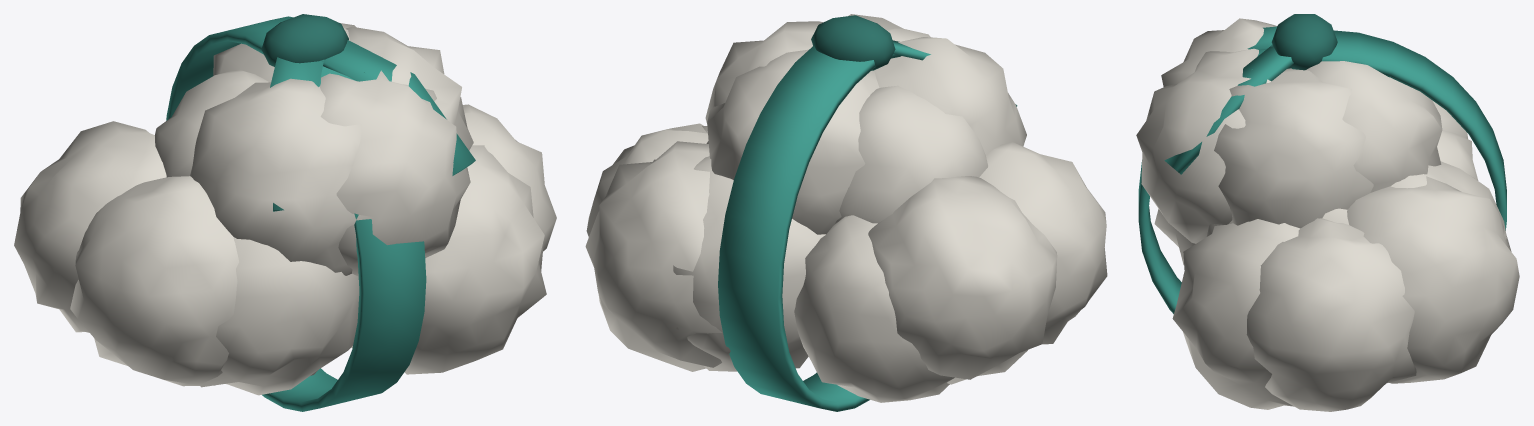
The model's file is cotton.glb.
The picture shows the model from 3 angles, left to right: view 1: azimuth 30°, elevation 25°; view 2: azimuth 150°, elevation 25°; view 3: azimuth 270°, elevation 25°; orthographic projection. The views are drawn at different scales.
Parts seen in each view (by area): view 1: Cotton_Puff0, Cotton_Puff2, Cotton_Puff1, Cotton_Band, Cotton_Knot, Cotton_TailL, Cotton_TailR; view 2: Cotton_Puff0, Cotton_Puff2, Cotton_Puff1, Cotton_Band, Cotton_Knot; view 3: Cotton_Puff1, Cotton_Puff2, Cotton_Band, Cotton_Knot, Cotton_Puff0, Cotton_TailL.
Part boxes in pixels (x1=…): Cotton_Puff0: x1=14, y1=121, x2=359, y2=395; Cotton_Puff2: x1=155, y1=23, x2=473, y2=276; Cotton_Puff1: x1=351, y1=104, x2=556, y2=374; Cotton_Band: x1=166, y1=16, x2=426, y2=411; Cotton_Knot: x1=261, y1=14, x2=348, y2=66; Cotton_TailL: x1=320, y1=40, x2=475, y2=175; Cotton_TailR: x1=270, y1=57, x2=323, y2=211; Cotton_Puff0: x1=794, y1=142, x2=1107, y2=402; Cotton_Puff2: x1=705, y1=14, x2=1026, y2=234; Cotton_Puff1: x1=585, y1=123, x2=825, y2=371; Cotton_Band: x1=718, y1=46, x2=900, y2=411; Cotton_Knot: x1=811, y1=15, x2=895, y2=70; Cotton_Puff1: x1=1172, y1=161, x2=1519, y2=411; Cotton_Puff2: x1=1136, y1=18, x2=1442, y2=243; Cotton_Band: x1=1138, y1=30, x2=1506, y2=313; Cotton_Knot: x1=1271, y1=14, x2=1337, y2=70; Cotton_Puff0: x1=1154, y1=100, x2=1478, y2=265; Cotton_TailL: x1=1164, y1=45, x2=1293, y2=174.
Size of the model in its own units: 0.1738 by 0.1283 by 0.1275.
